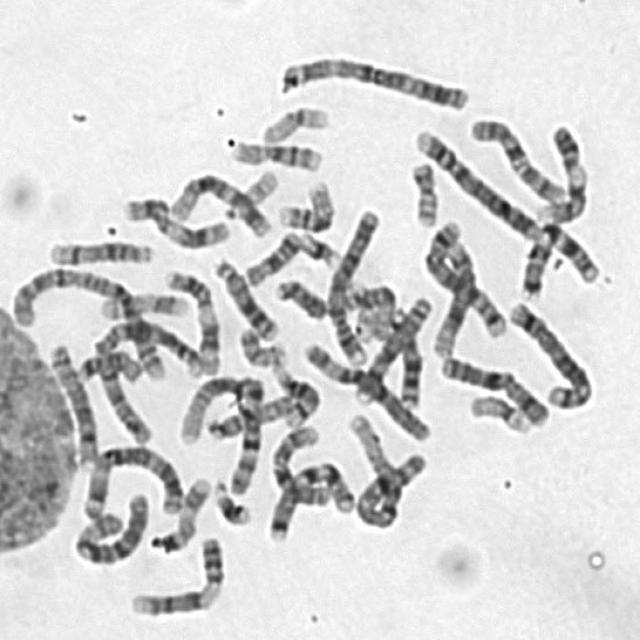A1: (170, 365, 266, 498), (340, 405, 428, 530)
A2: (1, 258, 175, 383), (89, 310, 206, 446)
A3: (272, 47, 472, 113), (76, 436, 188, 523)
B4: (408, 121, 541, 241), (321, 201, 383, 367)
B5: (417, 211, 510, 341), (502, 293, 596, 411)
C10: (464, 108, 570, 205), (265, 418, 332, 510)
C11: (158, 262, 224, 377), (116, 188, 233, 250)
C12: (164, 165, 272, 236), (427, 235, 479, 358)
C6: (296, 332, 434, 444), (66, 483, 151, 568)
C7: (262, 454, 358, 543), (514, 211, 602, 301)
C8: (347, 290, 436, 408), (41, 334, 101, 472)
C9: (123, 528, 227, 619), (532, 116, 592, 225)
D13: (205, 249, 281, 343), (382, 306, 446, 416)
D14: (42, 230, 156, 268), (265, 356, 322, 430)
D15: (198, 386, 299, 441), (338, 275, 399, 342)
E16: (225, 130, 326, 173), (271, 172, 339, 233)
E17: (150, 469, 215, 553), (90, 284, 191, 322)
E18: (238, 221, 304, 288), (70, 343, 146, 385)
F19: (254, 96, 332, 144), (464, 386, 535, 435)
F20: (402, 152, 442, 229), (231, 320, 289, 368)
G21: (206, 473, 253, 528), (293, 224, 343, 268)
G22: (217, 162, 280, 221), (354, 310, 394, 344)
X: (434, 347, 553, 430)
Y: (268, 270, 329, 321)
